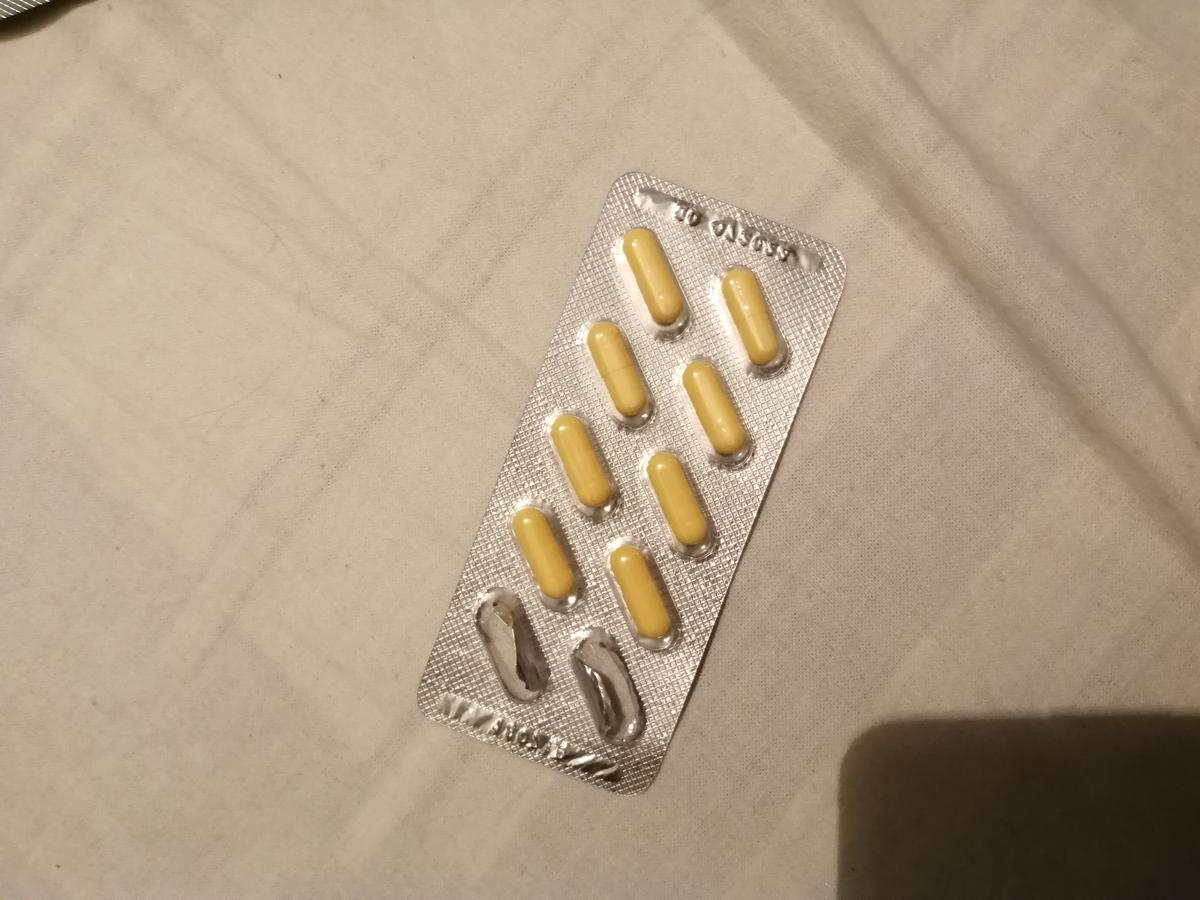capsule: (719, 263, 788, 371), (681, 356, 754, 457), (509, 504, 583, 600), (549, 410, 620, 507), (646, 449, 714, 547), (620, 224, 684, 327), (609, 547, 679, 640), (583, 322, 651, 417)
